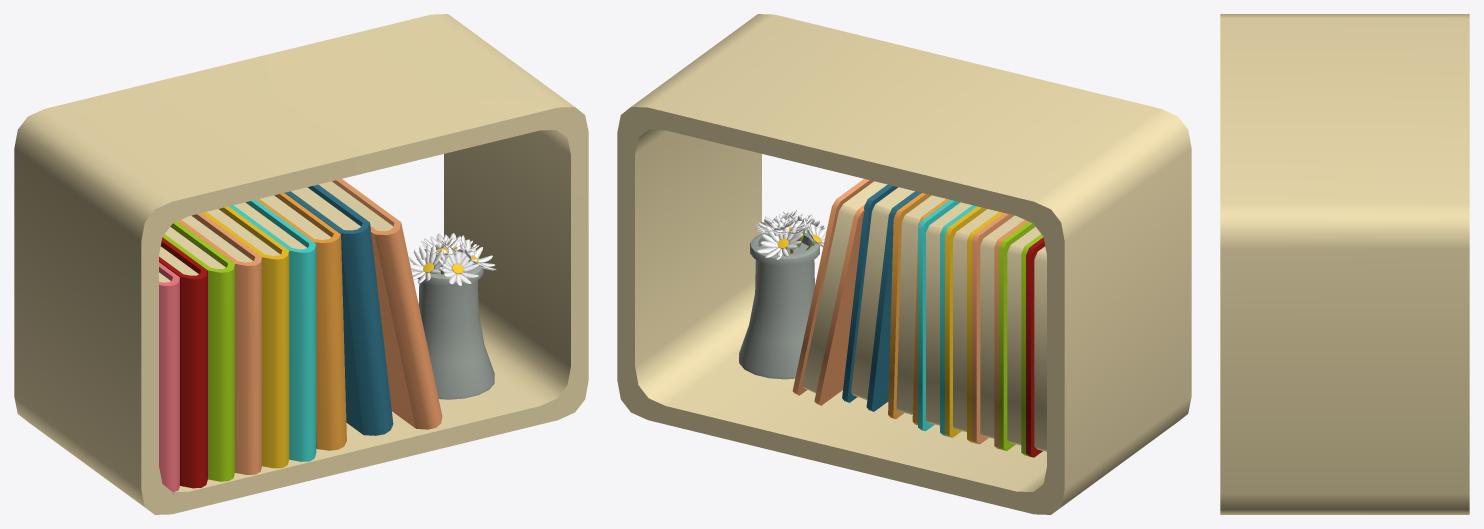
The model's file is Modular_bookshelf_part_8.FBX.
3 views of the same model, side by side, from view 1: azimuth 30°, elevation 25°; view 2: azimuth 150°, elevation 25°; view 3: azimuth 270°, elevation 25° (orthographic).
Parts seen in each view (by area): view 1: Modular_bookshelf_part_8; view 2: Modular_bookshelf_part_8; view 3: Modular_bookshelf_part_8.
Part boxes in pixels (bbox=[...]): Modular_bookshelf_part_8: bbox=[14, 14, 588, 514]; Modular_bookshelf_part_8: bbox=[617, 14, 1191, 514]; Modular_bookshelf_part_8: bbox=[1220, 14, 1469, 514].
Bounding box in the file's own units: 46.44 × 31.02 × 22.84.
Materials: 1 (1 with a texture image).
